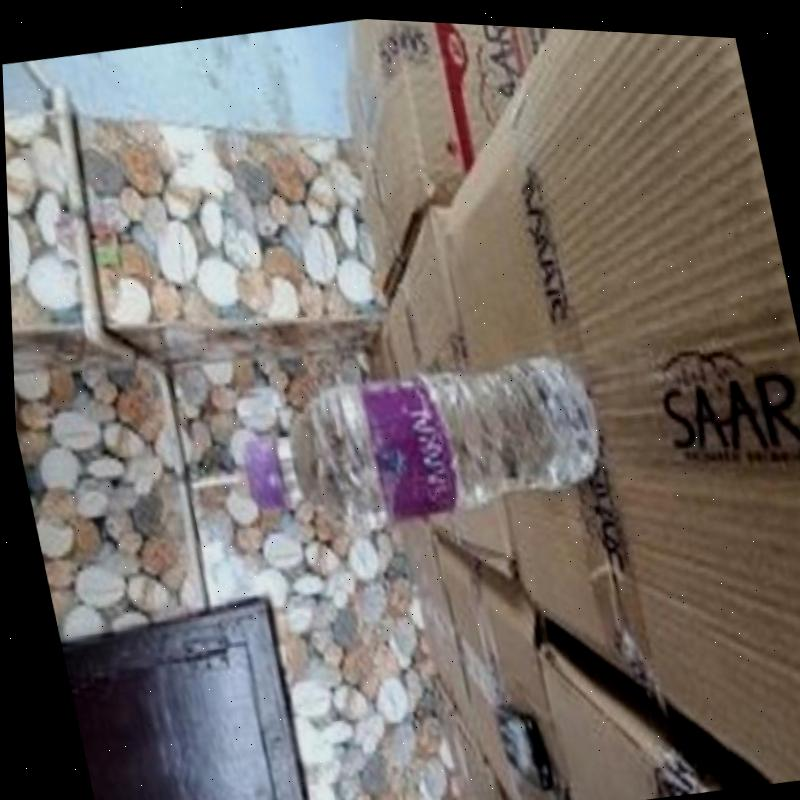botella: (224, 328, 607, 560)
